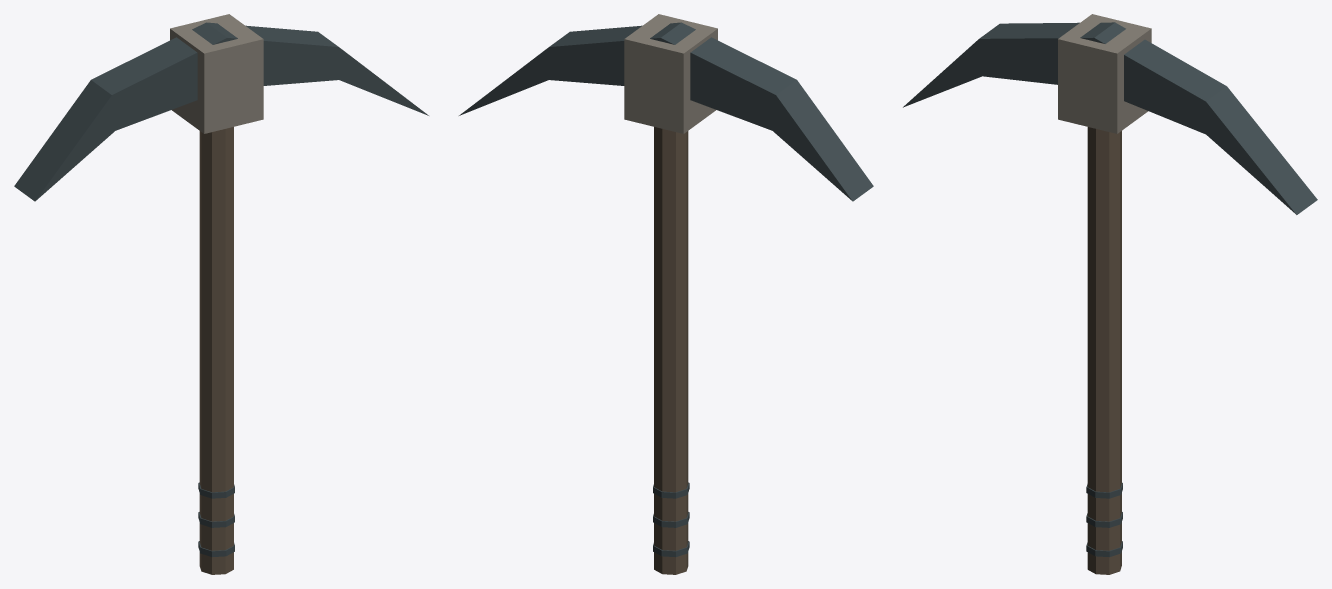
File: Equip_Pickaxe.fbx
3 renders of one model, left to right at view 1: azimuth 30°, elevation 25°; view 2: azimuth 150°, elevation 25°; view 3: azimuth 330°, elevation 25°, orthographic.
Parts seen in each view (by area): view 1: Equip_Pickaxe; view 2: Equip_Pickaxe; view 3: Equip_Pickaxe.
Boxes of the visible parts, x1,y1,x2,y2 form: Equip_Pickaxe: [14, 14, 428, 574]; Equip_Pickaxe: [459, 14, 873, 574]; Equip_Pickaxe: [903, 14, 1317, 574].
Size of the model in its own units: 1.13 by 1.47 by 0.17.
